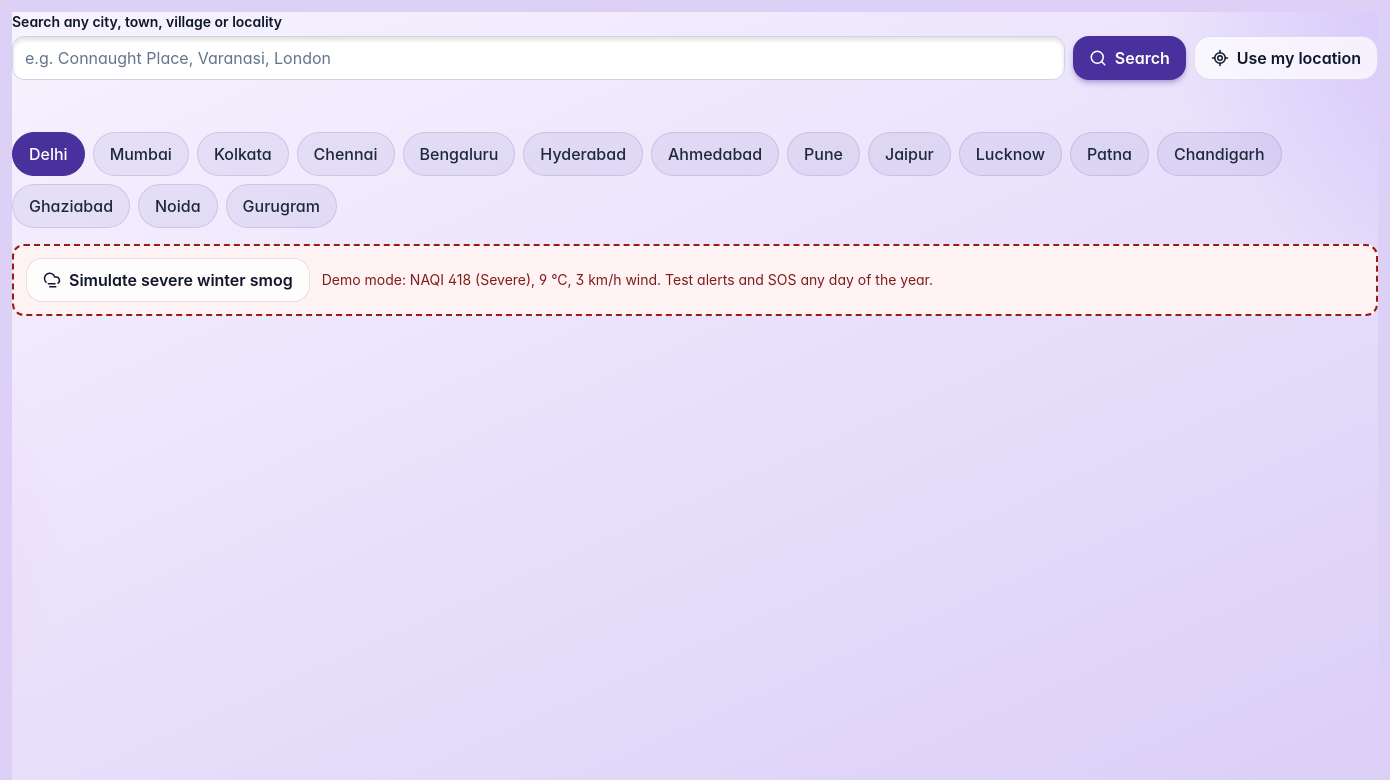
it: LocationBar › explains how to narrow a search that finds nothing
In the dropdown: (538, 58) [12,36,1065,80], type "Zzyzx"
Then press Enter
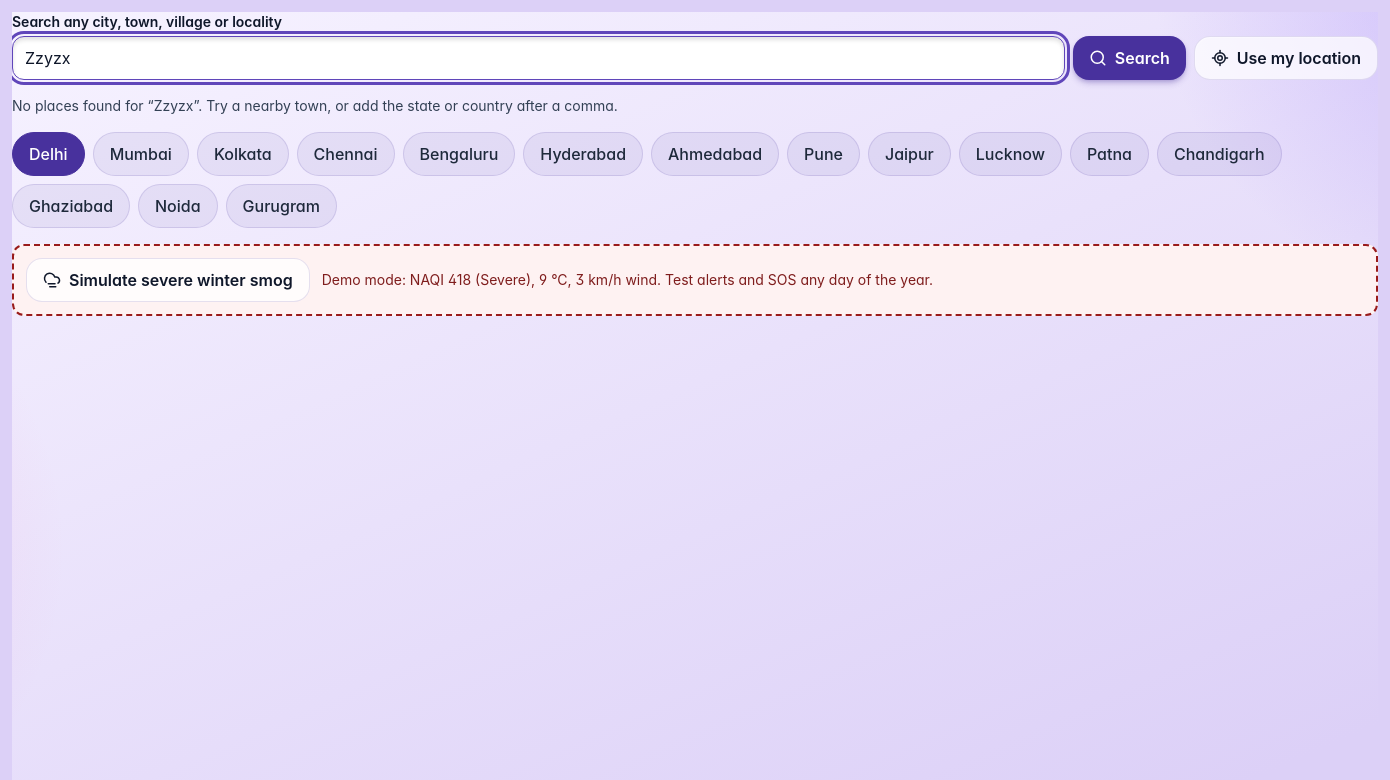
Expected: the message shows "No places found for “Zzyzx”", [12,97,618,114]
